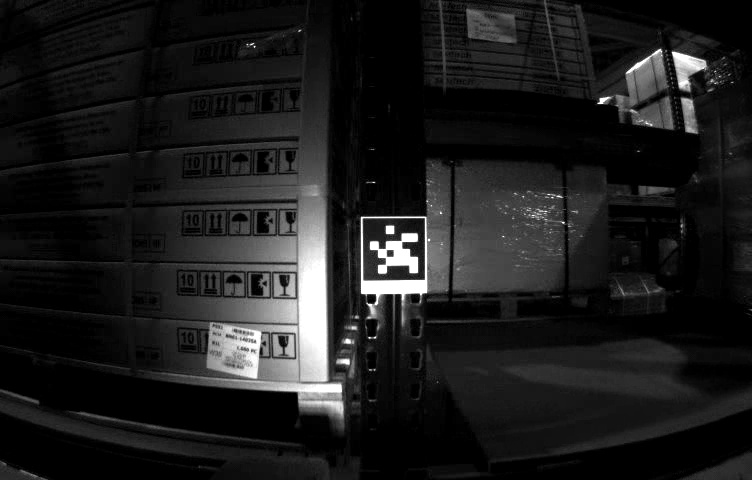True Barcode: (209, 320, 259, 380)
